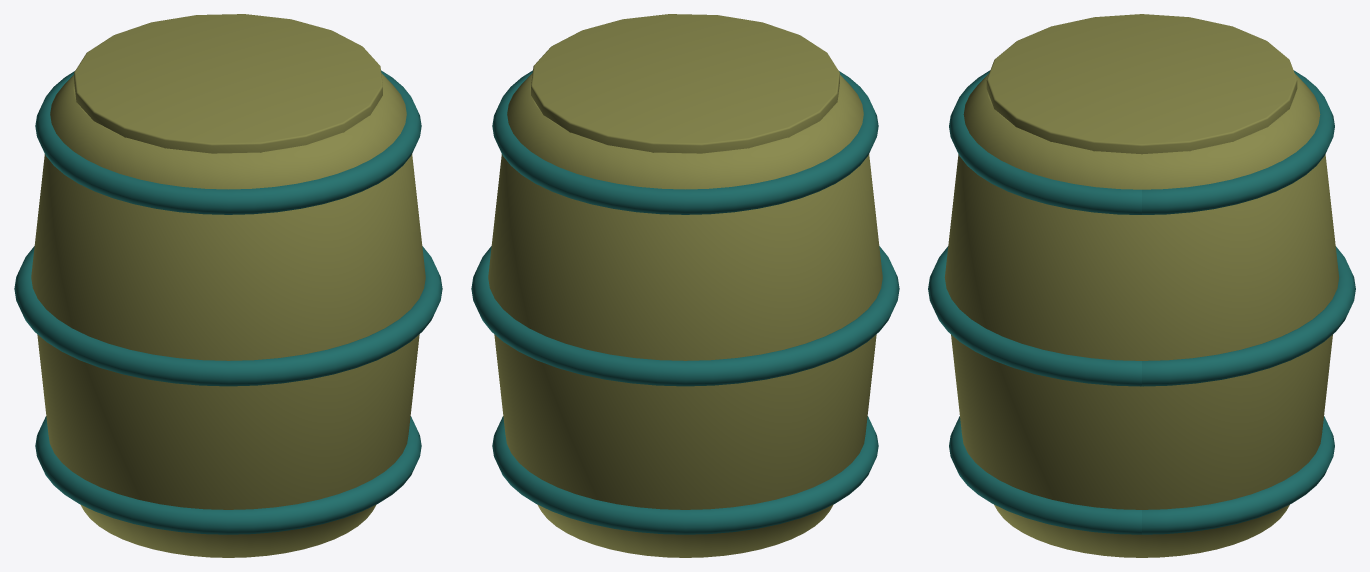
File: barrel.glb
3 renders of one model, left to right at view 1: azimuth 30°, elevation 25°; view 2: azimuth 150°, elevation 25°; view 3: azimuth 270°, elevation 25°, orthographic.
Parts seen in each view (by area): view 1: Staves, Lid, Hoop.001, Hoop.002, Hoop; view 2: Staves, Lid, Hoop.001, Hoop.002, Hoop; view 3: Staves, Lid, Hoop.001, Hoop.002, Hoop.
Part boxes in pixels (x1,y1,x2,y2): Staves: [31, 73, 425, 557]; Lid: [74, 14, 382, 153]; Hoop.001: [14, 246, 442, 386]; Hoop.002: [35, 70, 421, 214]; Hoop: [35, 416, 421, 534]; Staves: [488, 73, 882, 557]; Lid: [531, 14, 839, 153]; Hoop.001: [471, 246, 899, 386]; Hoop.002: [492, 70, 878, 214]; Hoop: [492, 416, 878, 534]; Staves: [944, 73, 1339, 557]; Lid: [986, 14, 1297, 154]; Hoop.001: [928, 246, 1355, 386]; Hoop.002: [949, 70, 1334, 214]; Hoop: [949, 416, 1334, 534].
Size of the model in its own units: 0.716 by 0.7675 by 0.716.
